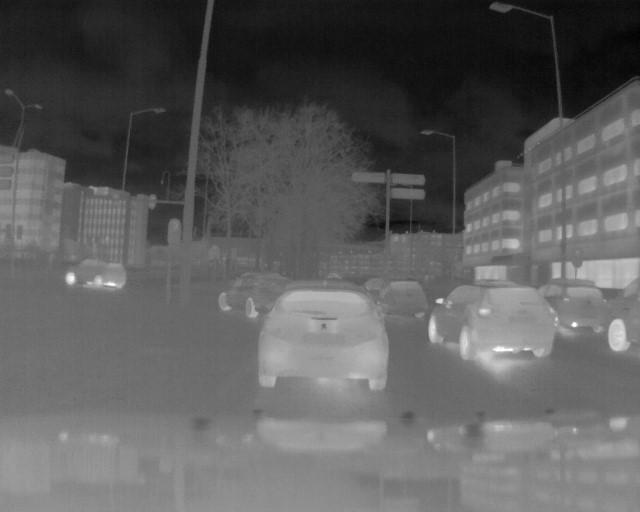car: (255, 279, 390, 388), (427, 281, 555, 365), (538, 277, 607, 338), (362, 271, 429, 325), (218, 267, 283, 315), (60, 256, 131, 292)
